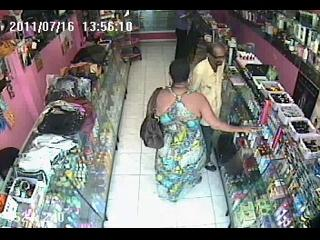Normal: (142, 58, 261, 204), (190, 43, 228, 172)
